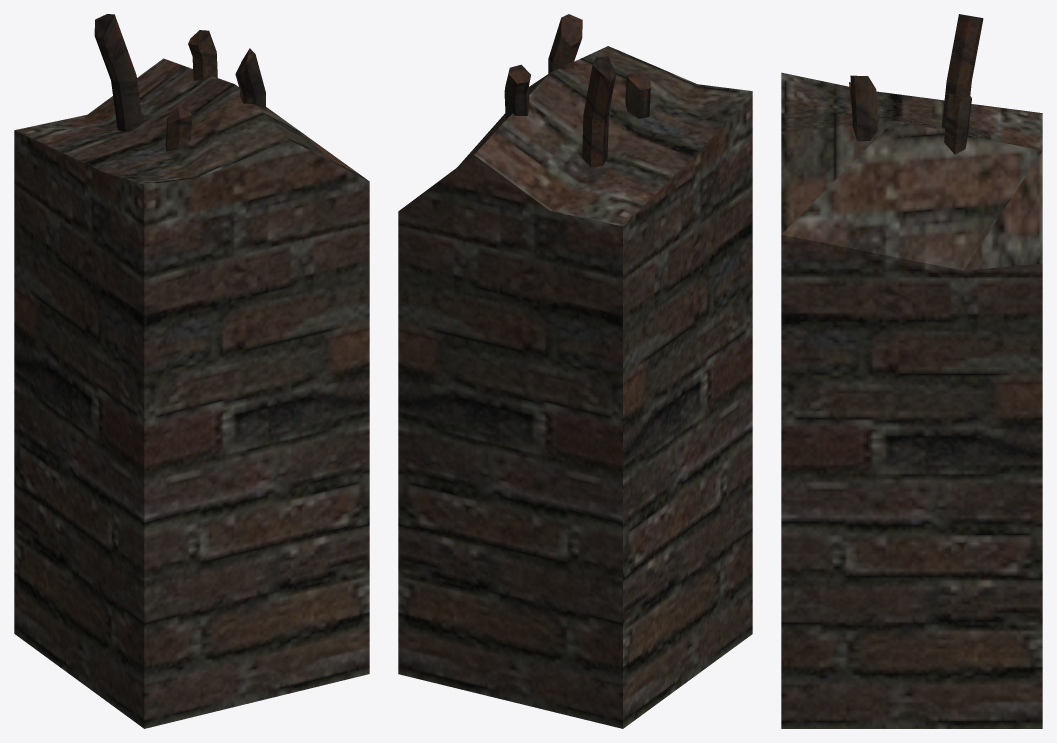
Rendered from pillar_hs_1_broken.dae.
3 views of the same model, side by side, from view 1: azimuth 30°, elevation 25°; view 2: azimuth 150°, elevation 25°; view 3: azimuth 270°, elevation 25° (orthographic).
Visible parts, largest first — view 1: pillar_hs_1_broken; view 2: pillar_hs_1_broken; view 3: pillar_hs_1_broken.
Boxes of the visible parts, <box> form: pillar_hs_1_broken: <box>14,14,369,728</box>; pillar_hs_1_broken: <box>398,14,752,728</box>; pillar_hs_1_broken: <box>781,14,1042,728</box>.
Bounding box in the file's own units: 0.6 × 0.6 × 1.6.
Materials: 2 (2 with a texture image).
